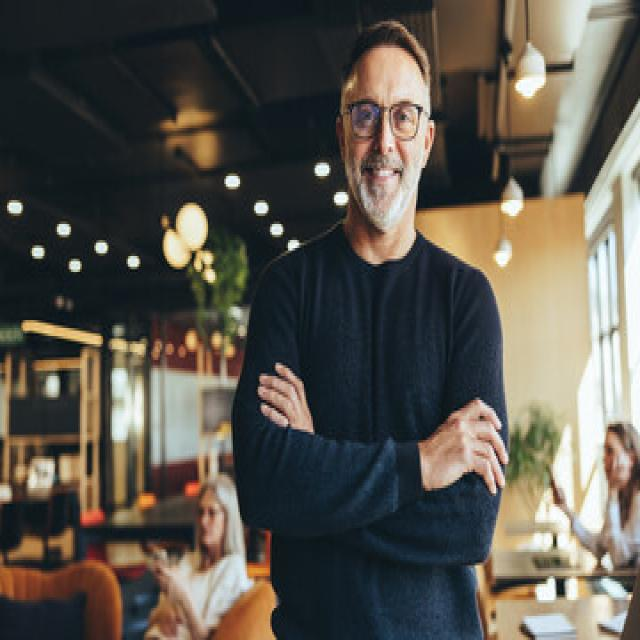person-without-mask: (238, 6, 538, 634)
